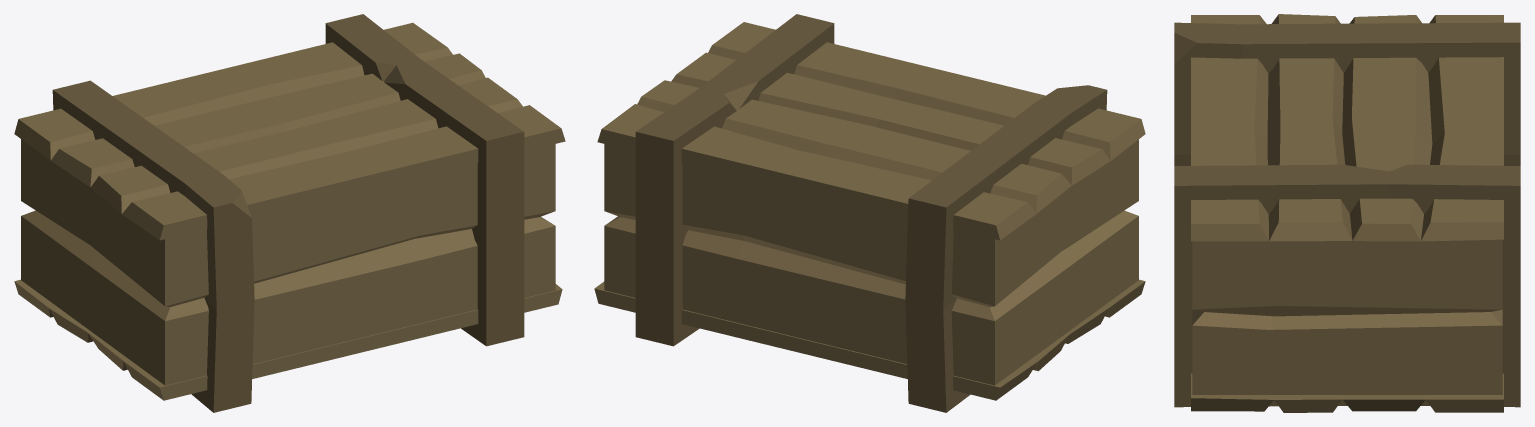
File: Crate_4.fbx
3 renders of one model, left to right at view 1: azimuth 30°, elevation 25°; view 2: azimuth 150°, elevation 25°; view 3: azimuth 270°, elevation 25°, orthographic. The views are drawn at different scales.
Visible parts, largest first — view 1: Crate_4; view 2: Crate_4; view 3: Crate_4.
Boxes of the visible parts, bbox=[...] form: Crate_4: bbox=[14, 14, 565, 412]; Crate_4: bbox=[594, 14, 1145, 412]; Crate_4: bbox=[1174, 14, 1520, 412].
Size of the model in its own units: 79.21 by 38.12 by 54.1.
